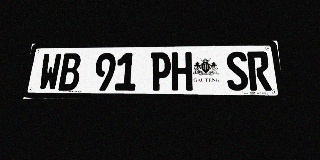1: (115, 53, 137, 91)
9: (94, 53, 116, 91)
B: (58, 53, 82, 91)
H: (172, 52, 193, 91)
P: (150, 52, 171, 91)
R: (247, 51, 272, 91)
S: (225, 51, 249, 91)
W: (38, 53, 62, 91)
